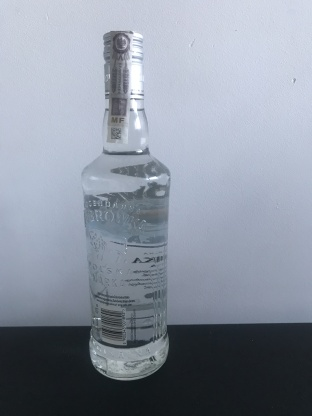nakretka: (100, 27, 147, 103)
